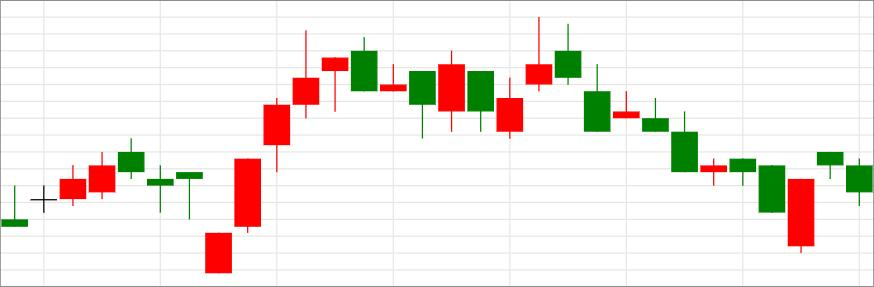three_white_soldiers_rise: (117, 97, 292, 274)
